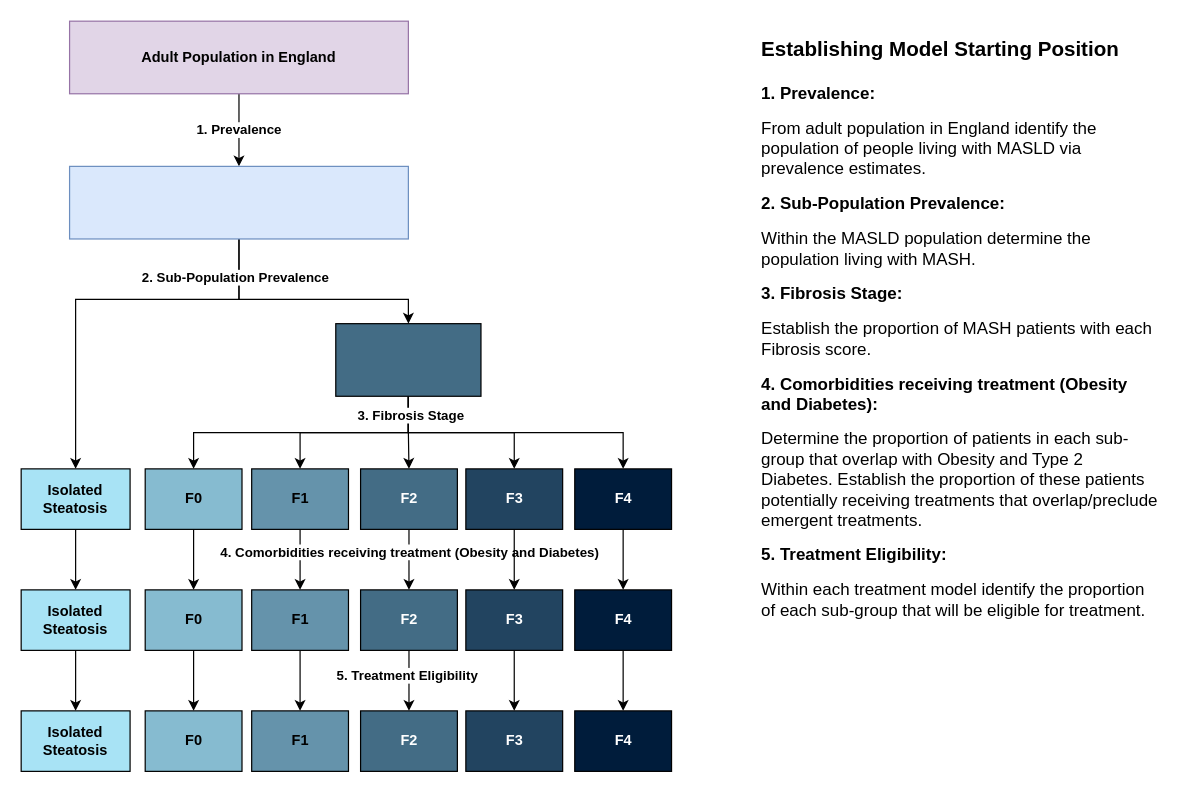
The diagram is 1180 pixels wide and 796 high, and some of its shapes have lost their labels. The shapes that lost their labels are listed below. From the top down, each one's centre as x and y in pixels, then its label:
point (238, 202): MASLD Population
point (408, 359): MASH
